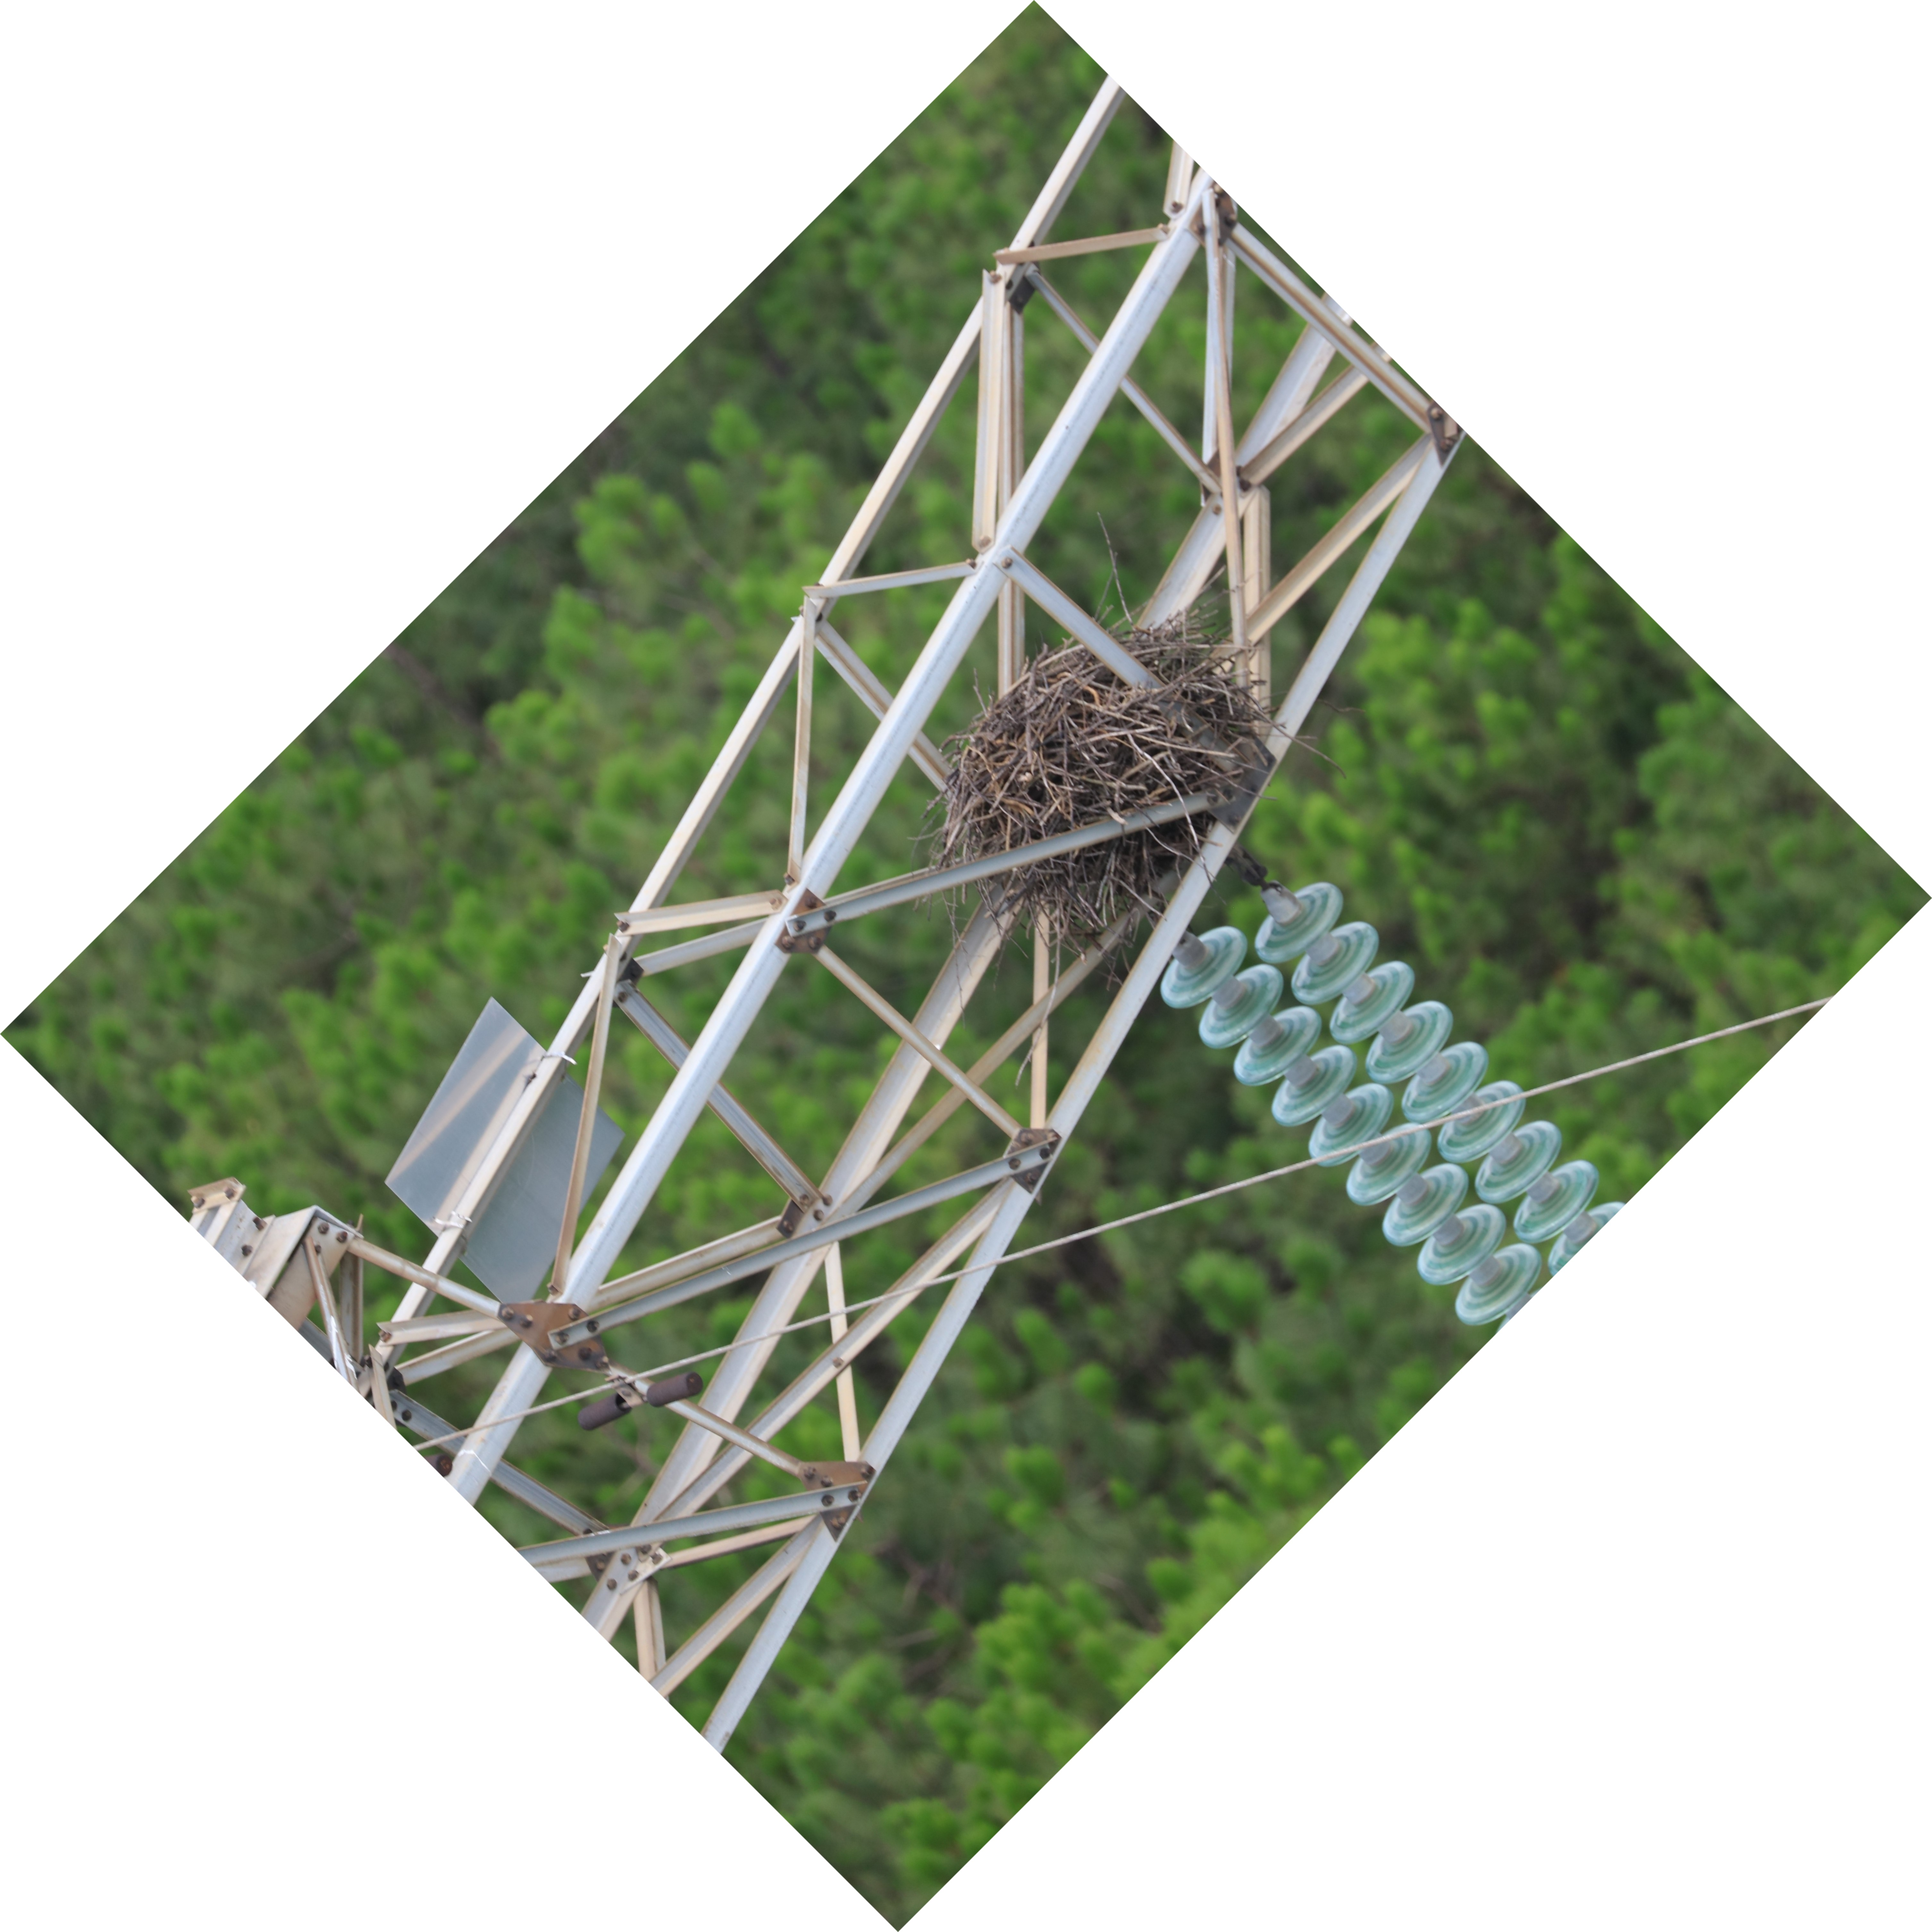niaowo: (906, 591, 1293, 964)
